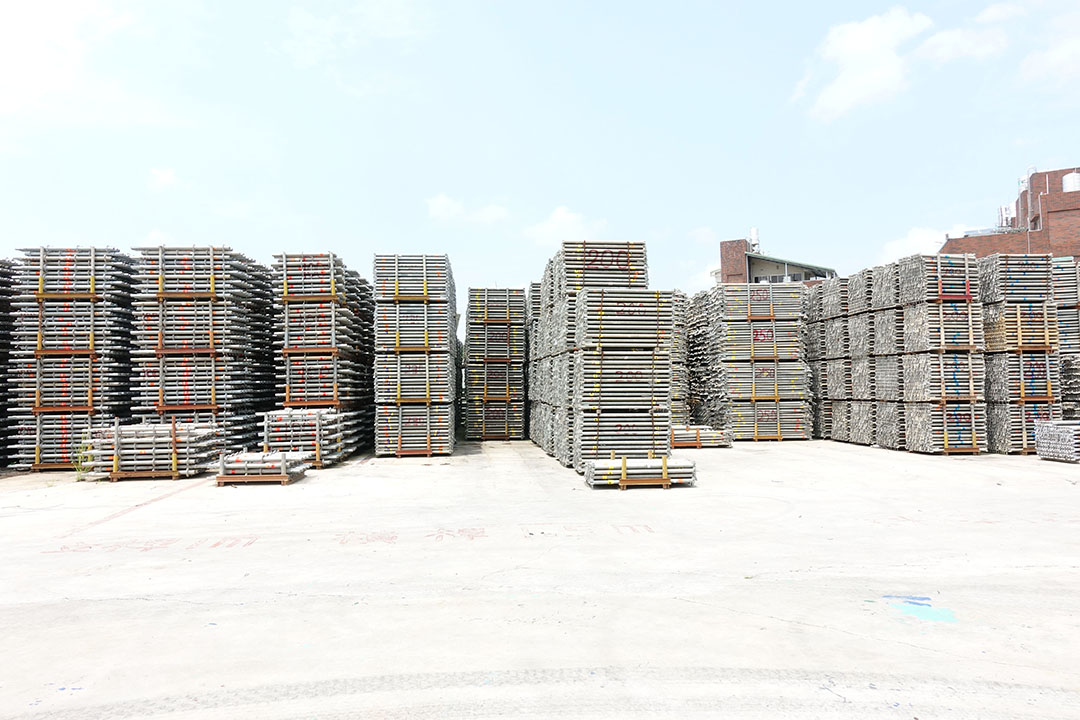building materials: (12, 243, 118, 302), (584, 287, 675, 352), (131, 244, 233, 301), (11, 304, 118, 358), (9, 359, 112, 415), (7, 417, 109, 472), (131, 357, 231, 413), (133, 301, 230, 358), (583, 352, 670, 412), (582, 414, 671, 471), (560, 240, 648, 291), (257, 411, 327, 470), (372, 252, 447, 304), (372, 354, 447, 406), (372, 304, 449, 354), (376, 406, 450, 458), (271, 250, 341, 303), (275, 357, 347, 408), (274, 305, 343, 357), (721, 283, 806, 322), (725, 363, 807, 402), (726, 404, 811, 441), (922, 305, 986, 353), (724, 324, 805, 361), (930, 404, 987, 456), (995, 252, 1053, 301), (922, 254, 978, 304), (1004, 305, 1060, 354), (1009, 404, 1062, 455), (929, 354, 985, 402), (1005, 355, 1061, 403), (467, 324, 525, 364), (468, 286, 524, 327), (468, 401, 526, 440), (468, 365, 524, 402)
